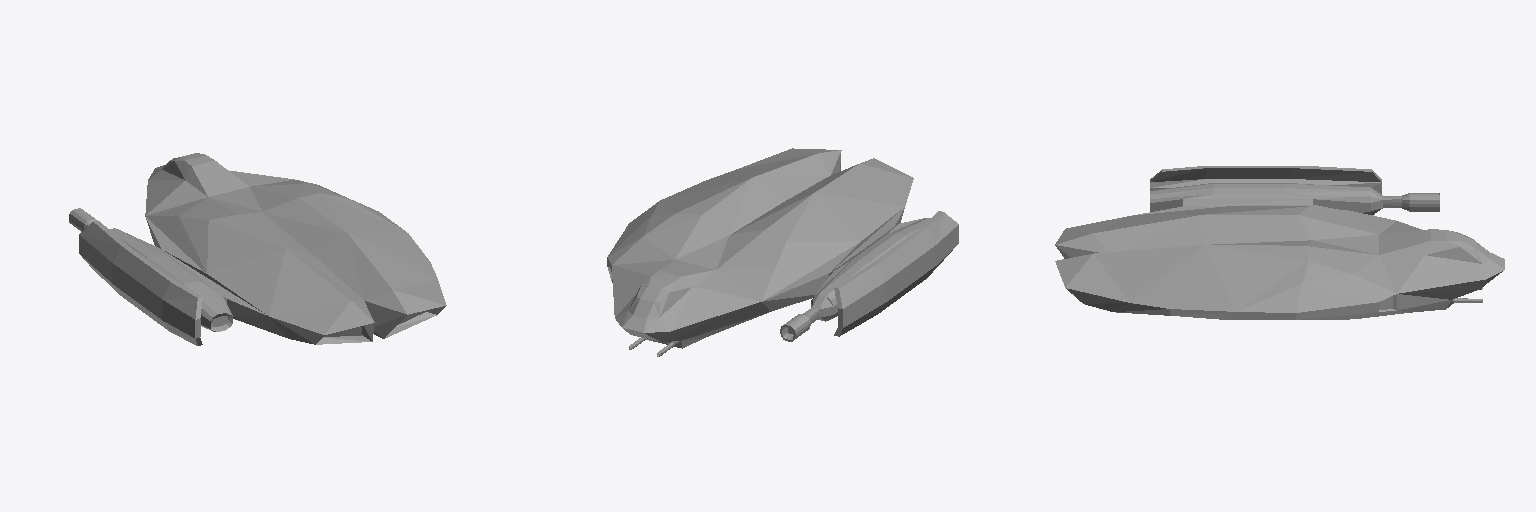
Rendered from spirit.obj.
3 views of the same model, side by side, from view 1: azimuth 30°, elevation 25°; view 2: azimuth 150°, elevation 25°; view 3: azimuth 270°, elevation 25° (orthographic).
Parts seen in each view (by area): view 1: Cube; view 2: Cube; view 3: Cube.
Part boxes in pixels (x1,y1,x2,y2): Cube: (69,153,446,345); Cube: (607,148,958,356); Cube: (1055,166,1504,319).
Size of the model in its own units: 4.78 by 1.3 by 7.12.